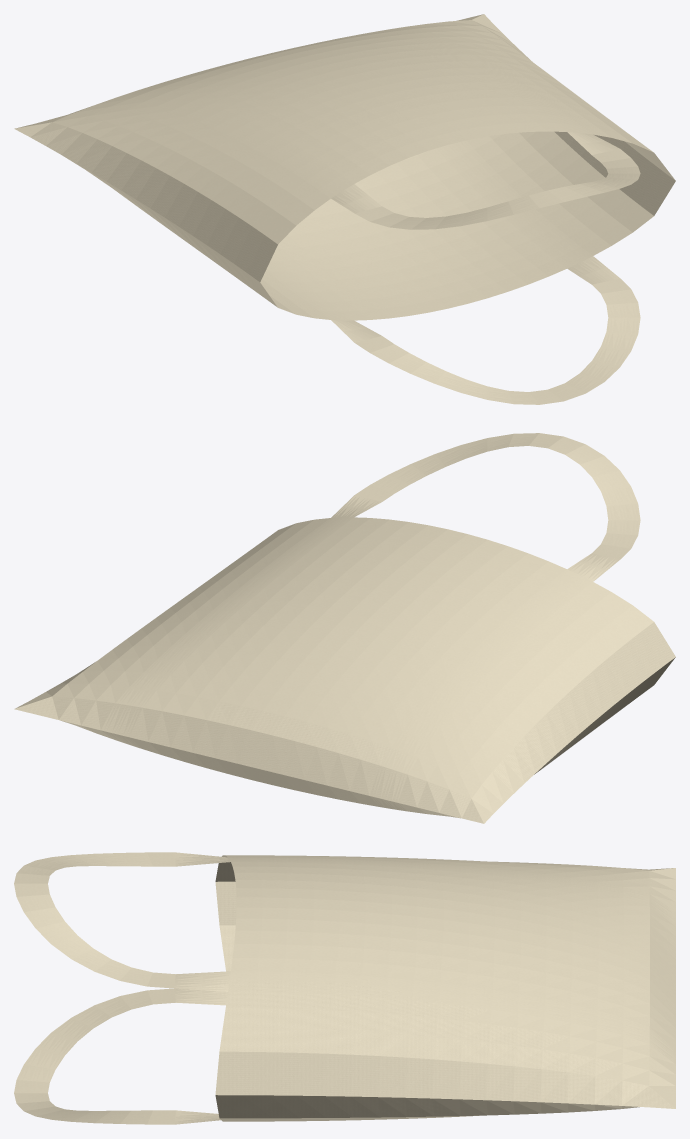
File: two_panel_bag_coarse.obj
3 renders of one model, top to bottom at view 1: azimuth 30°, elevation 25°; view 2: azimuth 150°, elevation 25°; view 3: azimuth 270°, elevation 25°, orthographic. The views are drawn at different scales.
Size of the model in its own units: 0.42 by 0.17 by 0.4871.
1 material, 1 textured.
